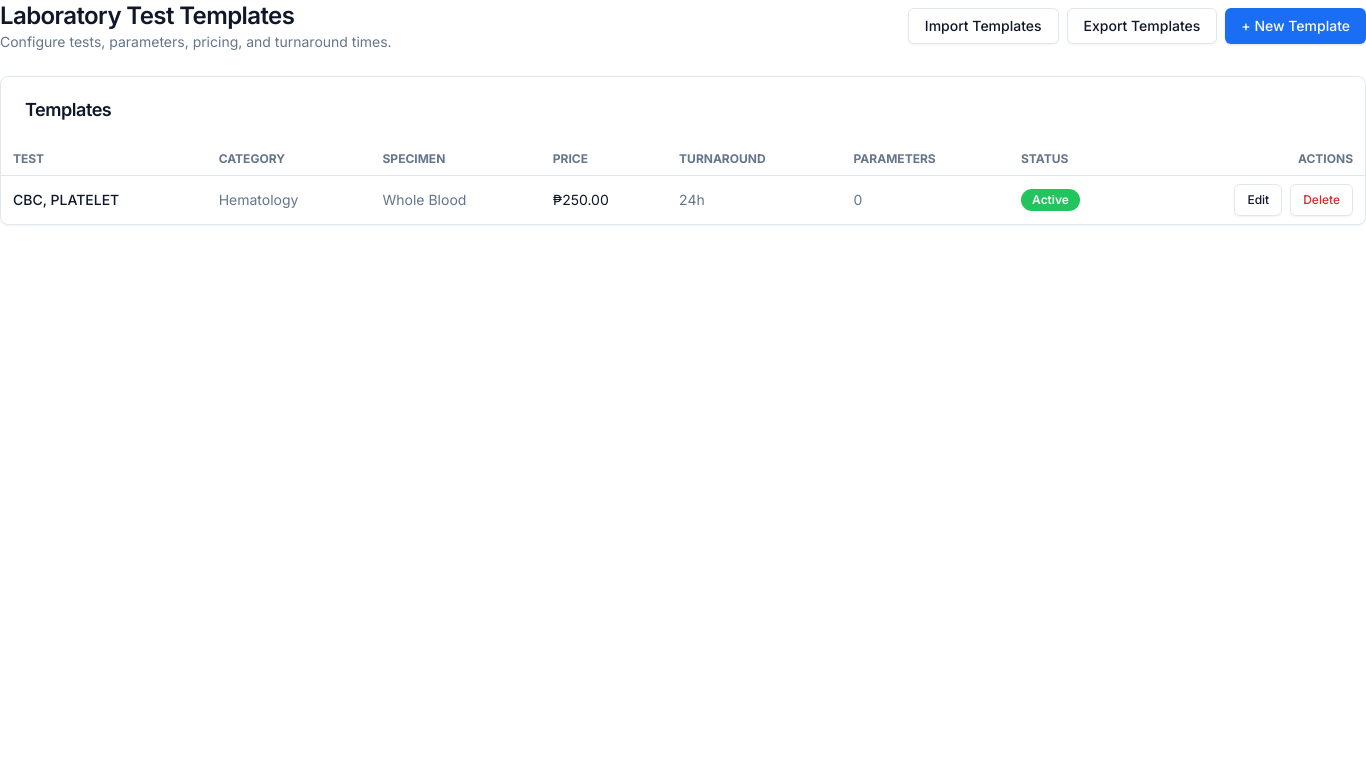
LaboratoryTemplatesPage - Delete template › 2: clicking Delete opens the confirmation dialog with the template name
Click the button "Delete".
click(1322, 200)  # box [1290,184,1353,216]
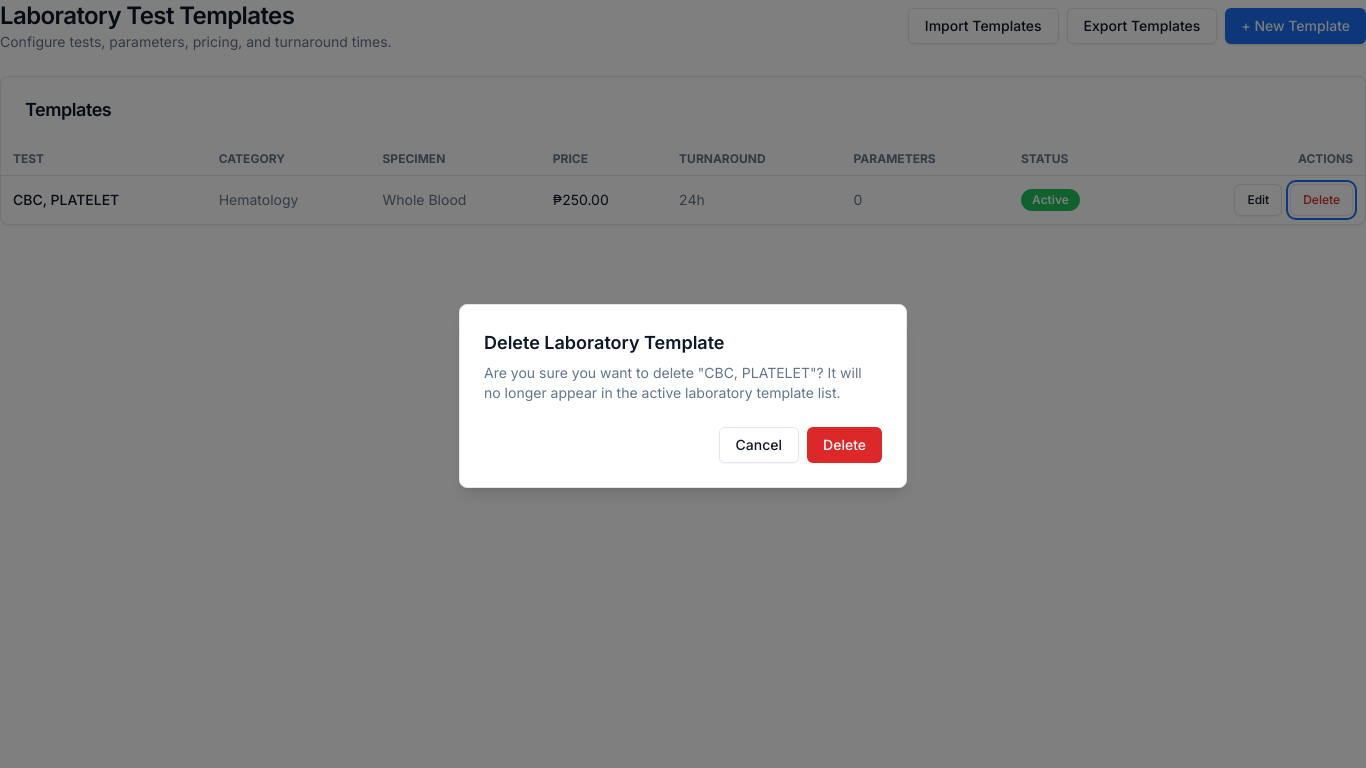
Check: the heading "Delete Laboratory Template" is shown, box [484,332,724,353]
Check: the text "no longer appear in the active laboratory template list" is shown, box [484,364,862,401]
